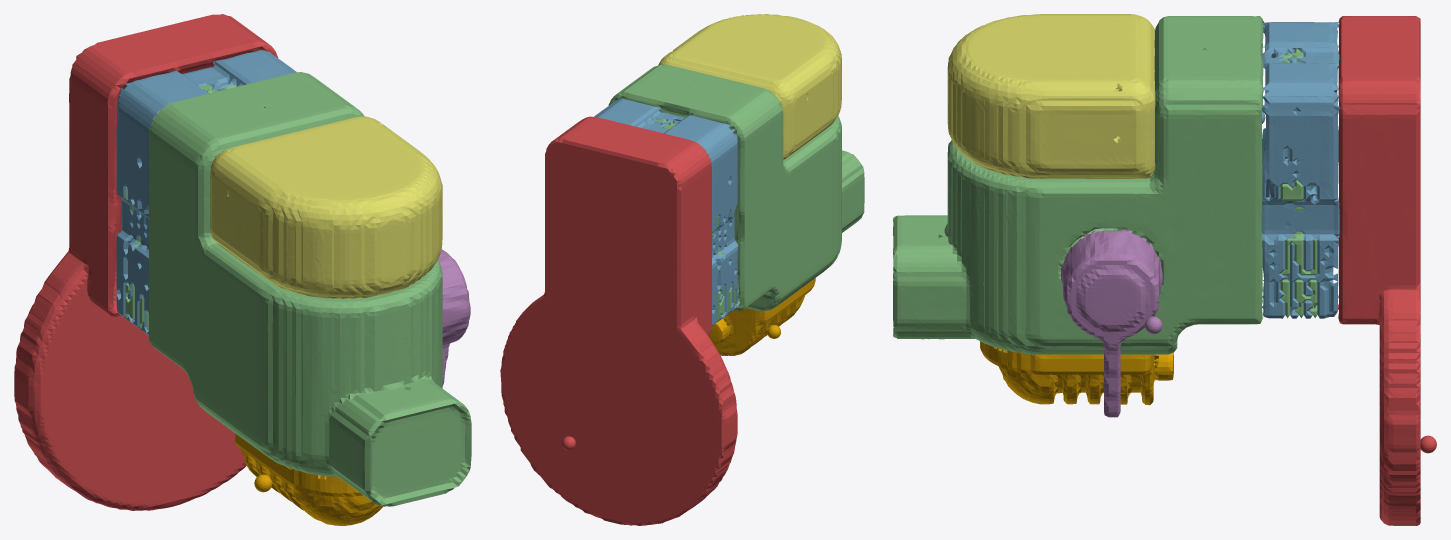
File: ours.glb
The picture shows the model from 3 angles, left to right: view 1: azimuth 30°, elevation 25°; view 2: azimuth 150°, elevation 25°; view 3: azimuth 270°, elevation 25°; orthographic projection. The views are drawn at different scales.
Visible parts, largest first — view 1: g2, g0, g5, g1, g4, g3; view 2: g0, g2, g5, g1, g4; view 3: g2, g0, g5, g1, g3, g4.
Boxes of the visible parts, x1,y1,x2,y2 form: g2: (125, 72, 471, 506); g0: (14, 14, 278, 510); g5: (210, 116, 442, 298); g1: (116, 50, 296, 335); g4: (235, 433, 383, 525); g3: (438, 249, 470, 385); g0: (500, 116, 737, 525); g2: (608, 64, 864, 322); g5: (658, 14, 841, 159); g1: (594, 98, 738, 325); g4: (708, 278, 815, 355); g2: (893, 16, 1317, 354); g0: (1338, 16, 1436, 525); g5: (947, 14, 1155, 178); g1: (1261, 22, 1339, 318); g3: (1061, 230, 1162, 417); g4: (980, 341, 1173, 405).
Size of the model in its own units: 1.21 by 1.84 by 1.96.
